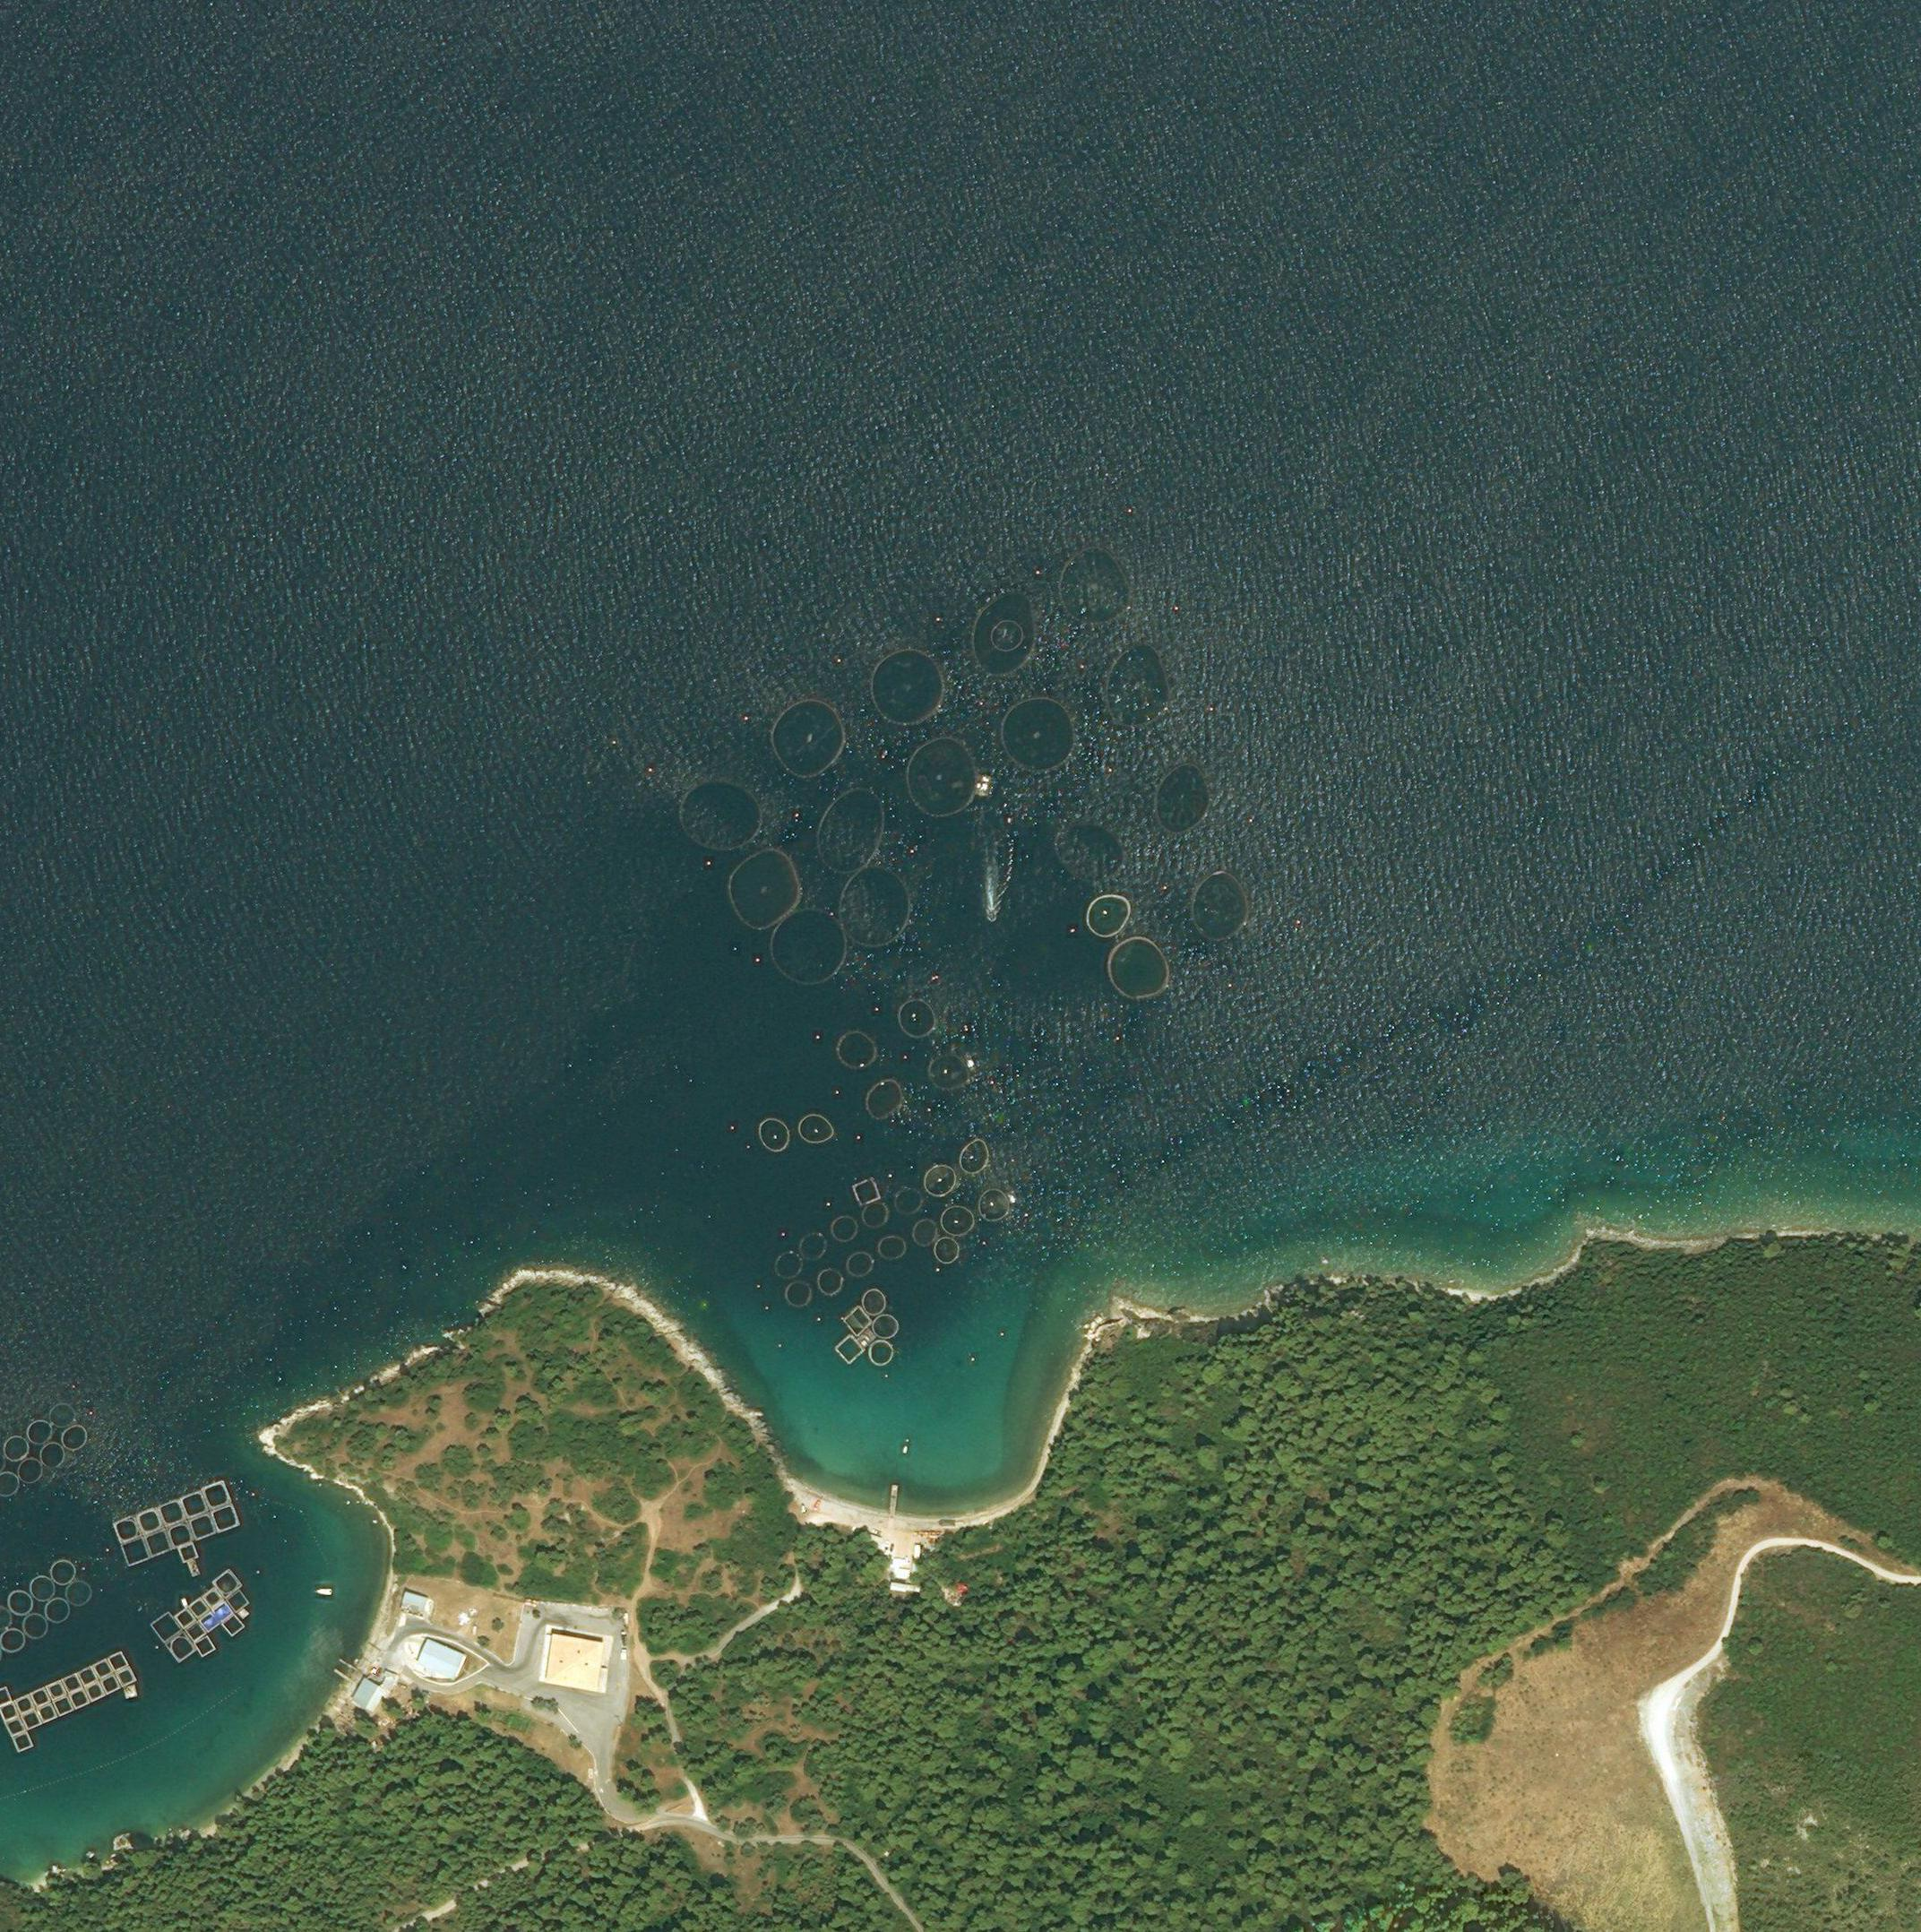c: (767, 699, 843, 776), (904, 737, 978, 816), (999, 699, 1077, 772), (674, 779, 755, 850), (1103, 644, 1170, 728), (1057, 545, 1128, 625), (871, 649, 943, 723), (975, 591, 1036, 672), (1189, 869, 1251, 943), (1054, 823, 1124, 882), (1107, 936, 1170, 999), (1154, 760, 1209, 832), (1085, 894, 1131, 936), (836, 1028, 880, 1070), (895, 999, 936, 1038), (927, 1054, 968, 1093), (864, 1079, 902, 1119), (756, 1117, 790, 1151), (976, 1188, 1008, 1221), (941, 1204, 975, 1235), (799, 1114, 834, 1144), (957, 1138, 989, 1170), (924, 1165, 955, 1195), (894, 1186, 924, 1214), (876, 1235, 908, 1262), (844, 1251, 874, 1277), (830, 1216, 858, 1242), (783, 1279, 811, 1306), (818, 1267, 844, 1293), (800, 1232, 825, 1258)
